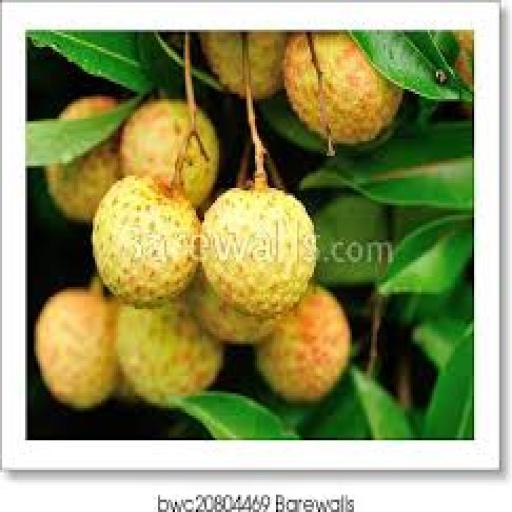lychee: (201, 181, 316, 316), (93, 176, 200, 306), (283, 33, 402, 143), (255, 285, 349, 403), (116, 302, 223, 405), (36, 290, 117, 408), (188, 273, 278, 343), (47, 137, 120, 222), (180, 109, 219, 207), (247, 33, 286, 98), (454, 30, 474, 89)
